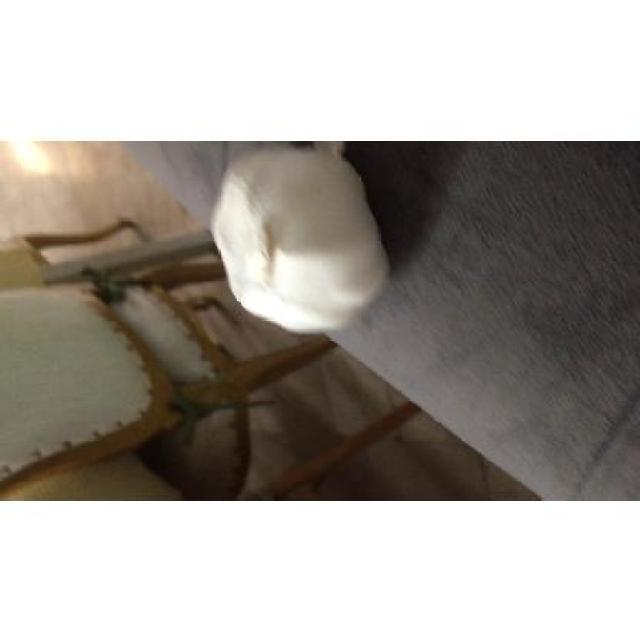Garlic: (202, 144, 400, 344)
